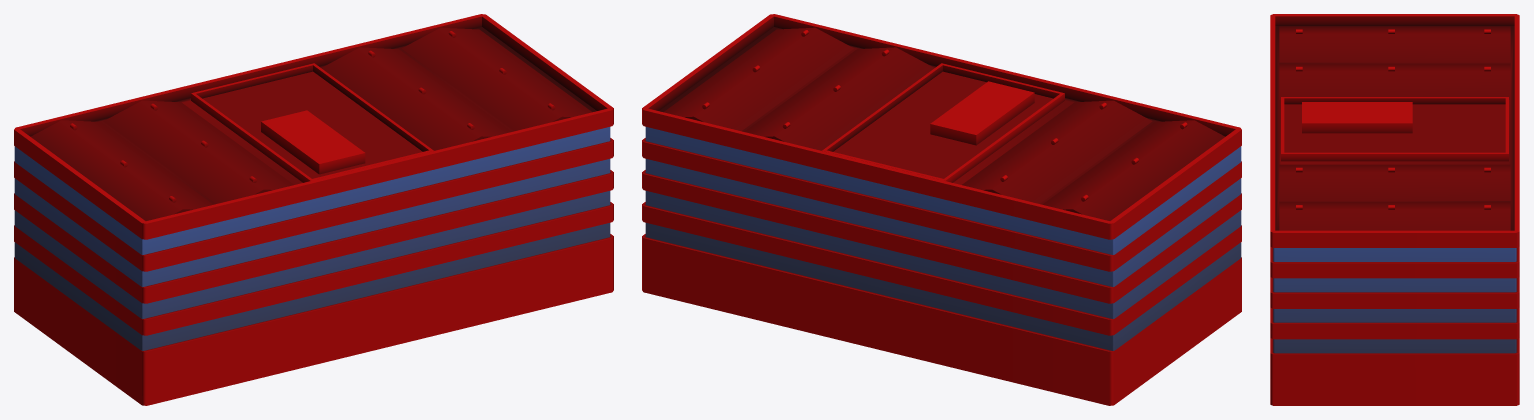
The model's file is RC_ComBuilding5.fbx.
The picture shows the model from 3 angles, left to right: view 1: azimuth 30°, elevation 25°; view 2: azimuth 150°, elevation 25°; view 3: azimuth 270°, elevation 25°; orthographic projection. The views are drawn at different scales.
Visible parts, largest first — view 1: base.054, windowRefl.037; view 2: base.054, windowRefl.037; view 3: base.054, windowRefl.037.
Part boxes in pixels (<box>): base.054: <box>14,14,613,405</box>; windowRefl.037: <box>14,127,610,350</box>; base.054: <box>642,14,1241,405</box>; windowRefl.037: <box>645,127,1241,350</box>; base.054: <box>1270,14,1519,405</box>; windowRefl.037: <box>1273,248,1516,353</box>.
Size of the model in its own units: 4838 by 1837 by 2332.
